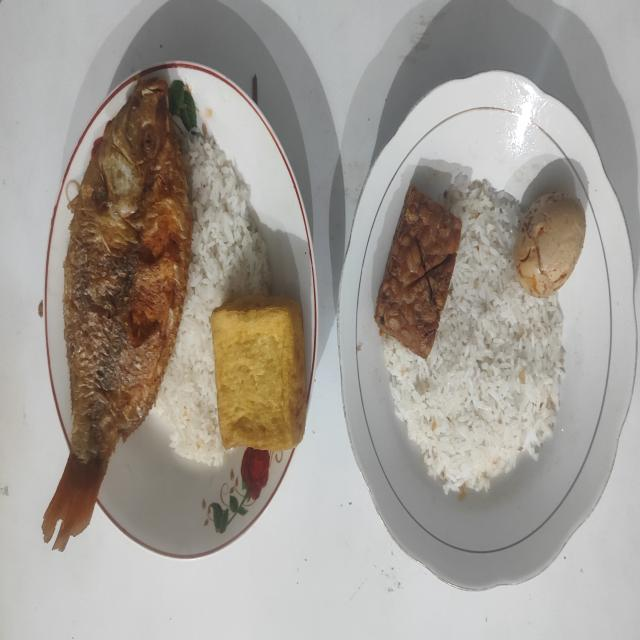ikan_mujair: (42, 80, 193, 550)
nasi_putih: (382, 170, 565, 492), (154, 130, 268, 467)
tahu_goreng: (210, 295, 307, 451)
tempe_goreng: (374, 185, 462, 359)
